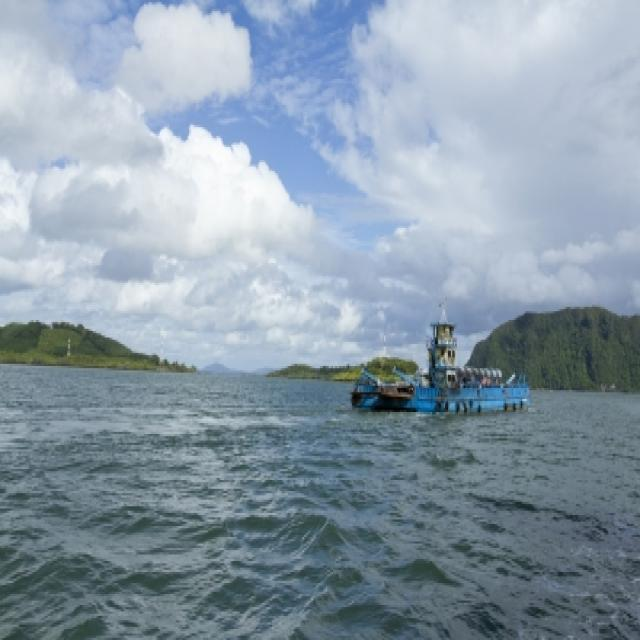fishing boat: (350, 310, 534, 423)
